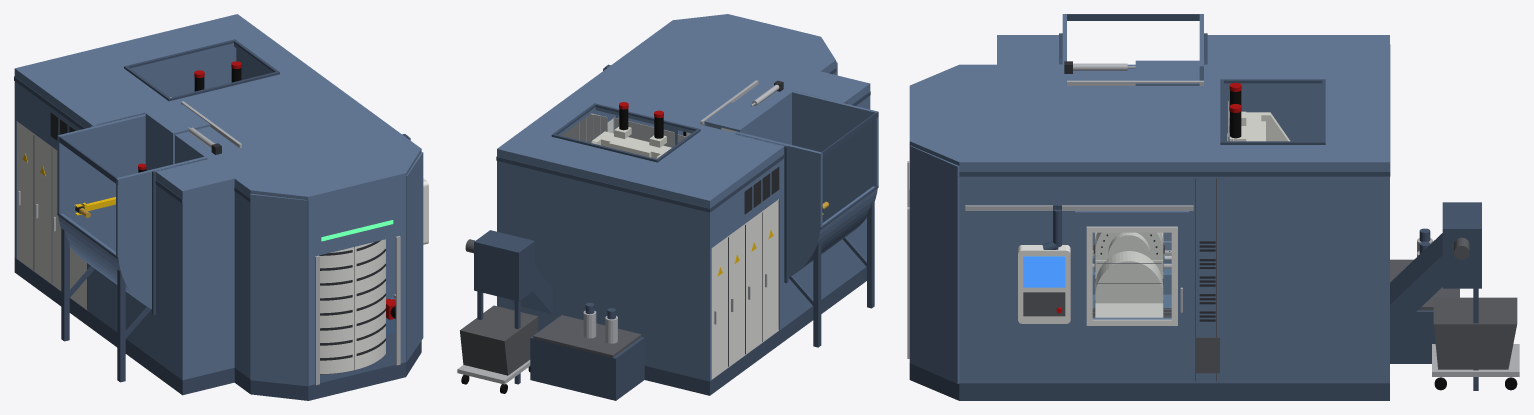
File: clock800evo_fms_blue.glb
3 renders of one model, left to right at view 1: azimuth 30°, elevation 25°; view 2: azimuth 150°, elevation 25°; view 3: azimuth 270°, elevation 25°, orthographic. The views are drawn at different scales.
Visible parts, largest first — view 1: enclosure__mcm_blue, apc_housing__mcm_blue, tc_box__mcm_blue, electrical_cabinet__evo_white, enclosure__mcm_blue_dk, apc_door_left__evo_white, apc_housing__mcm_blue_dk, apc_door_right__evo_white, tc_box__mcm_blue_dk, tc_door__mcm_blue, apc_housing__steel, apc_door_left__anthracite (+5 smaller); view 2: enclosure__mcm_blue, tc_box__mcm_blue, chip_coolant__mcm_blue_dk, electrical_cabinet__evo_white, enclosure__mcm_blue_dk, apc_housing__mcm_blue, chip_cart__steel_dark, tc_box__mcm_blue_dk, chip_coolant__anthracite_lt, tc_door__mcm_blue, column__struct_grey, enclosure__anthracite (+6 smaller); view 3: enclosure__mcm_blue, apc_housing__mcm_blue, enclosure__mcm_blue_dk, chip_coolant__mcm_blue_dk, operator_door__glass_clear, operator_door__mcm_blue, chip_cart__steel_dark, table__struct_grey, operator_door__evo_white, enclosure__steel, cnc_panel__evo_white, apc_housing__mcm_blue_dk (+13 smaller).
Boxes of the visible parts, <box> form: enclosure__mcm_blue: <box>14,14,404,380</box>; apc_housing__mcm_blue: <box>234,137,423,386</box>; tc_box__mcm_blue: <box>57,114,205,309</box>; electrical_cabinet__evo_white: <box>17,121,87,309</box>; enclosure__mcm_blue_dk: <box>14,39,279,395</box>; apc_door_left__evo_white: <box>320,247,354,373</box>; apc_housing__mcm_blue_dk: <box>234,187,421,400</box>; apc_door_right__evo_white: <box>354,239,385,369</box>; tc_box__mcm_blue_dk: <box>57,135,151,382</box>; tc_door__mcm_blue: <box>145,104,210,170</box>; apc_housing__steel: <box>315,236,400,385</box>; apc_door_left__anthracite: <box>319,250,352,360</box>; enclosure__mcm_blue: <box>497,31,870,381</box>; tc_box__mcm_blue: <box>736,91,878,277</box>; chip_coolant__mcm_blue_dk: <box>474,230,644,400</box>; electrical_cabinet__evo_white: <box>711,199,778,379</box>; enclosure__mcm_blue_dk: <box>496,91,870,395</box>; apc_housing__mcm_blue: <box>657,14,837,135</box>; chip_cart__steel_dark: <box>460,305,538,375</box>; tc_box__mcm_blue_dk: <box>789,112,878,347</box>; chip_coolant__anthracite_lt: <box>533,315,641,357</box>; tc_door__mcm_blue: <box>704,102,766,138</box>; column__struct_grey: <box>591,126,671,158</box>; enclosure__anthracite: <box>744,80,783,214</box>; enclosure__mcm_blue: <box>997,35,1389,383</box>; apc_housing__mcm_blue: <box>909,64,996,383</box>; enclosure__mcm_blue_dk: <box>997,33,1390,400</box>; chip_coolant__mcm_blue_dk: <box>1390,202,1481,390</box>; operator_door__glass_clear: <box>1093,233,1170,318</box>; operator_door__mcm_blue: <box>1075,211,1189,339</box>; chip_cart__steel_dark: <box>1433,297,1517,369</box>; table__struct_grey: <box>1095,232,1163,317</box>; operator_door__evo_white: <box>1086,226,1177,325</box>; enclosure__steel: <box>965,63,1203,210</box>; cnc_panel__evo_white: <box>1018,245,1070,323</box>; apc_housing__mcm_blue_dk: <box>909,171,996,400</box>.
Bounding box in the file's own units: 4.52 × 3.22 × 6.98.
